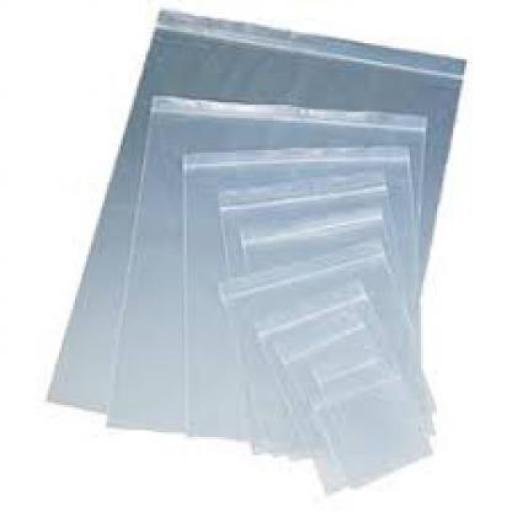plastic: (43, 6, 464, 416), (100, 89, 423, 428), (180, 141, 416, 446), (212, 237, 437, 468), (278, 320, 435, 492), (214, 166, 394, 284), (308, 368, 432, 486), (239, 200, 385, 282)
